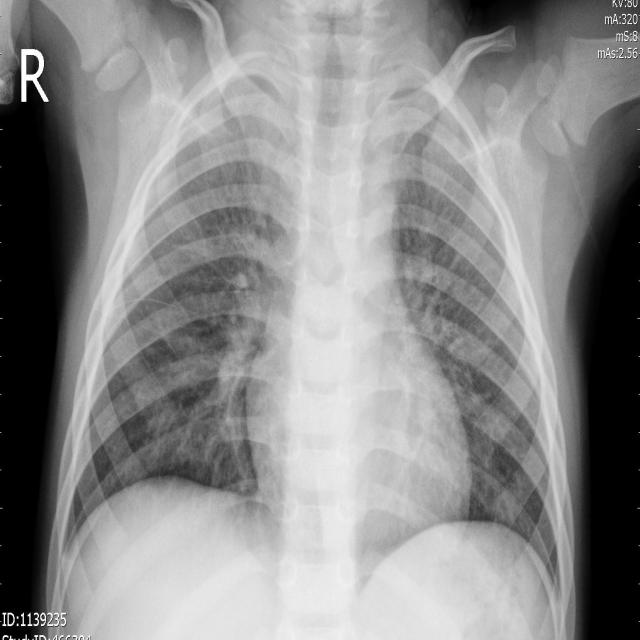high-pneumonia: (199, 76, 282, 260)
low-pneumonia: (187, 270, 279, 476), (406, 246, 479, 393)
